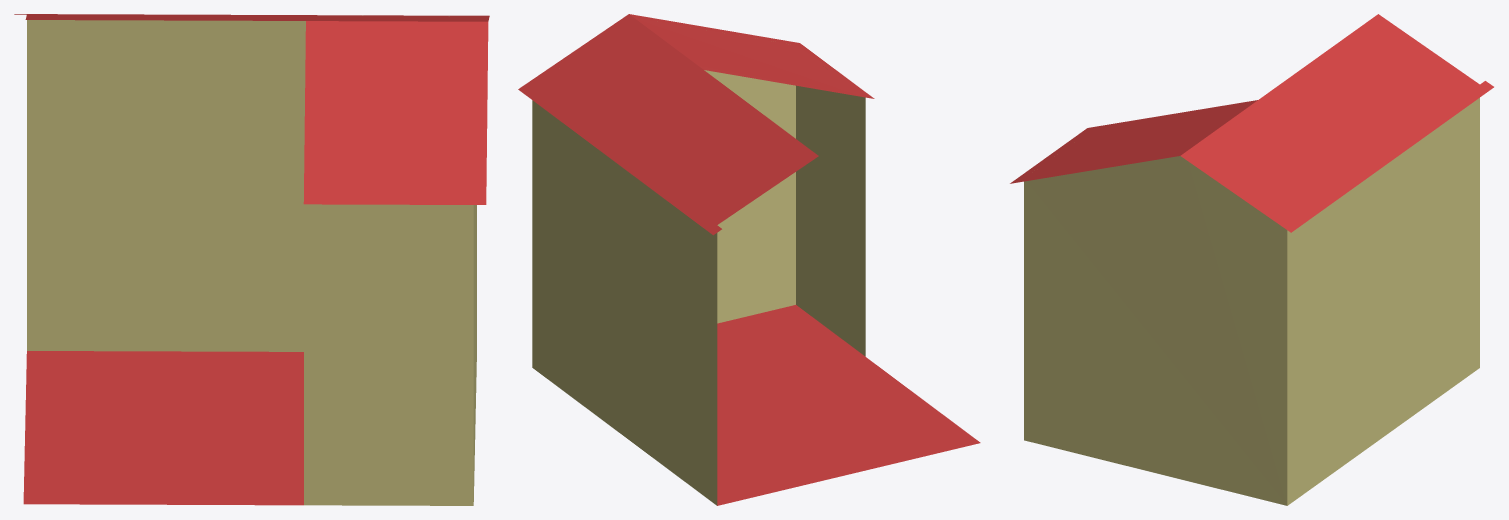
The picture shows the model from 3 angles, left to right: view 1: azimuth 30°, elevation 25°; view 2: azimuth 150°, elevation 25°; view 3: azimuth 270°, elevation 25°; orthographic projection. The views are drawn at different scales.
Bounding box in the file's own units: 11.68 × 11.41 × 8.53.
